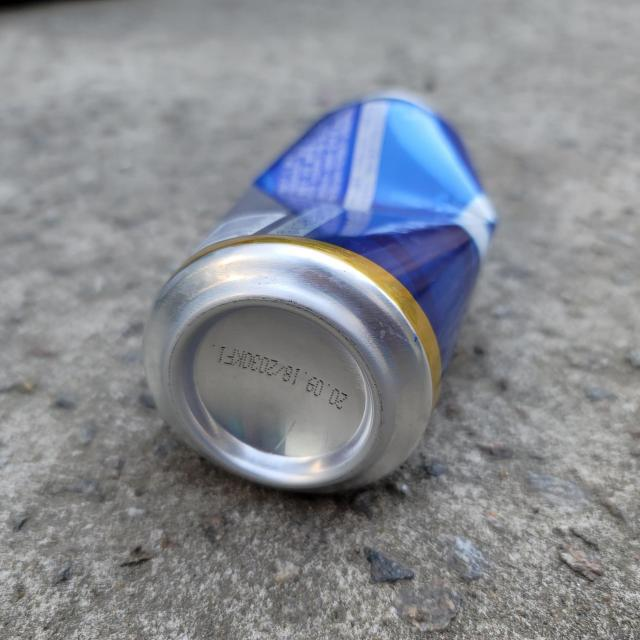can: (143, 92, 497, 493)
